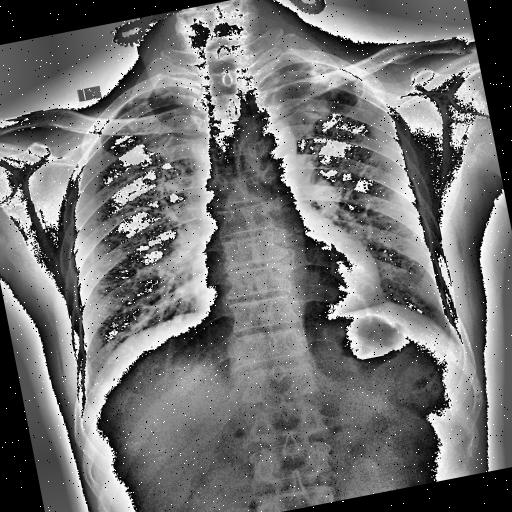11- Pleural thickening: (282, 37, 361, 103), (298, 50, 365, 102), (300, 46, 374, 92), (123, 77, 194, 113), (119, 80, 202, 108), (120, 81, 200, 107)
